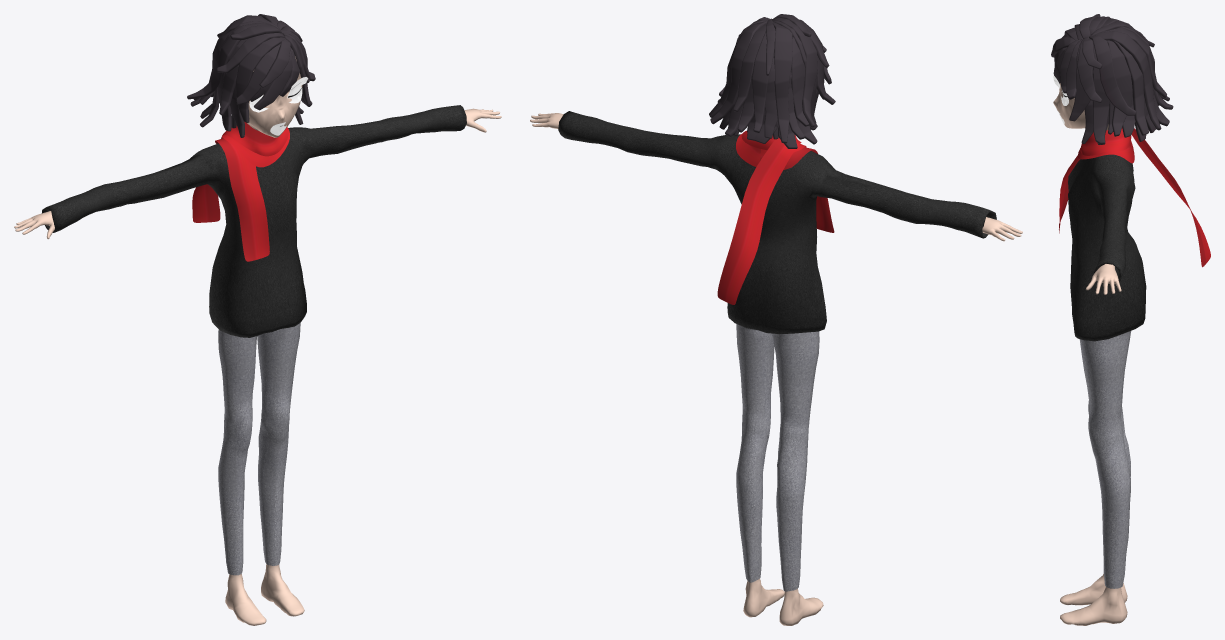
Rendered from girl.glb.
The picture shows the model from 3 angles, left to right: view 1: azimuth 30°, elevation 25°; view 2: azimuth 150°, elevation 25°; view 3: azimuth 270°, elevation 25°; orthographic projection.
Parts seen in each view (by area): view 1: Top, bot, hair, scarf, body, Head; view 2: Top, bot, hair, scarf, body; view 3: Top, hair, bot, body, scarf, Head.
Boxes of the visible parts, <box> form: Top: <box>42,105,466,337</box>; bot: <box>218,323,300,575</box>; hair: <box>187,14,315,137</box>; scarf: <box>192,122,289,261</box>; body: <box>14,108,501,625</box>; Head: <box>248,56,302,137</box>; Top: <box>558,111,996,334</box>; bot: <box>736,324,819,591</box>; hair: <box>709,14,835,148</box>; scarf: <box>717,130,834,304</box>; body: <box>530,113,1022,625</box>; Top: <box>1068,154,1146,341</box>; hair: <box>1051,14,1173,144</box>; bot: <box>1079,331,1131,588</box>; body: <box>1060,124,1127,625</box>; scarf: <box>1059,128,1210,267</box>; Head: <box>1053,83,1085,128</box>.
Bounding box in the file's own units: 1.39 × 1.61 × 0.395.
7 materials, 7 textured.
